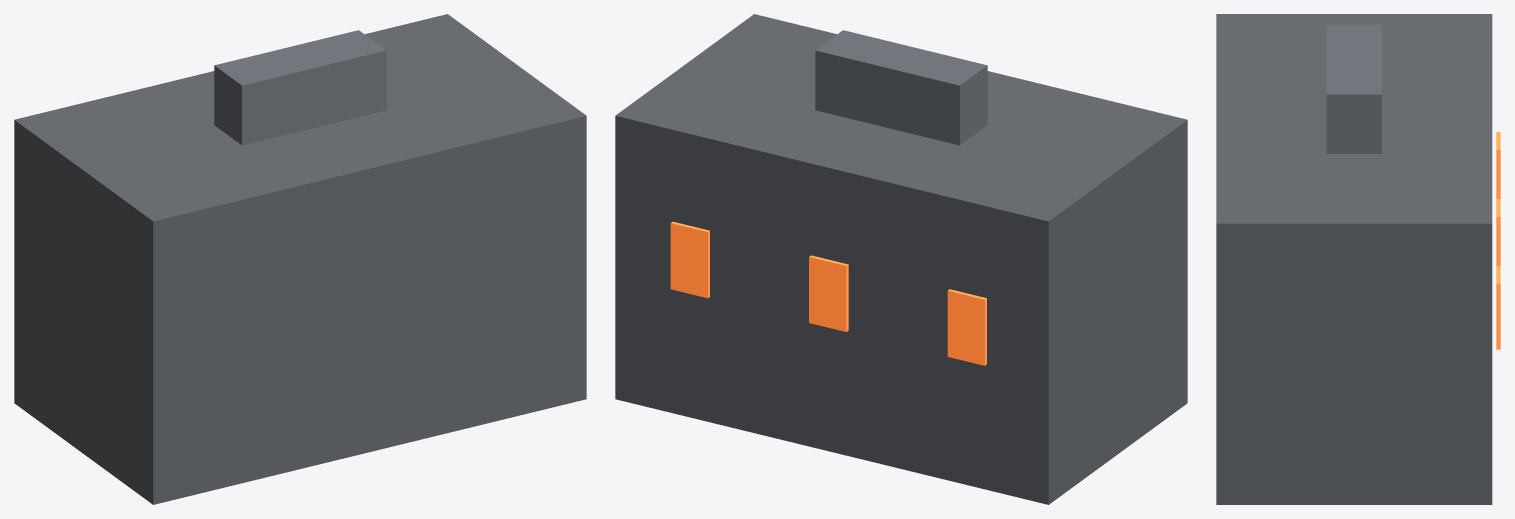
The model's file is ammo_cache.glb.
The picture shows the model from 3 angles, left to right: view 1: azimuth 30°, elevation 25°; view 2: azimuth 150°, elevation 25°; view 3: azimuth 270°, elevation 25°; orthographic projection.
Visible parts, largest first — view 1: ammo_case_1, ammo_handle_2; view 2: ammo_case_1, ammo_handle_2, ammo_markings_3, ammo_markings_4, ammo_markings_5; view 3: ammo_case_1, ammo_handle_2, ammo_markings_5, ammo_markings_3, ammo_markings_4.
Part boxes in pixels (<box>): ammo_case_1: <box>14,14,586,504</box>; ammo_handle_2: <box>214,30,386,145</box>; ammo_case_1: <box>615,14,1187,504</box>; ammo_handle_2: <box>815,30,987,145</box>; ammo_markings_3: <box>947,289,986,365</box>; ammo_markings_4: <box>809,255,848,331</box>; ammo_markings_5: <box>670,221,709,298</box>; ammo_case_1: <box>1216,14,1492,504</box>; ammo_handle_2: <box>1326,24,1381,153</box>; ammo_markings_5: <box>1496,266,1500,349</box>; ammo_markings_3: <box>1496,132,1500,198</box>; ammo_markings_4: <box>1496,199,1500,265</box>.
Size of the model in its own units: 0.72 by 0.545 by 0.412.
